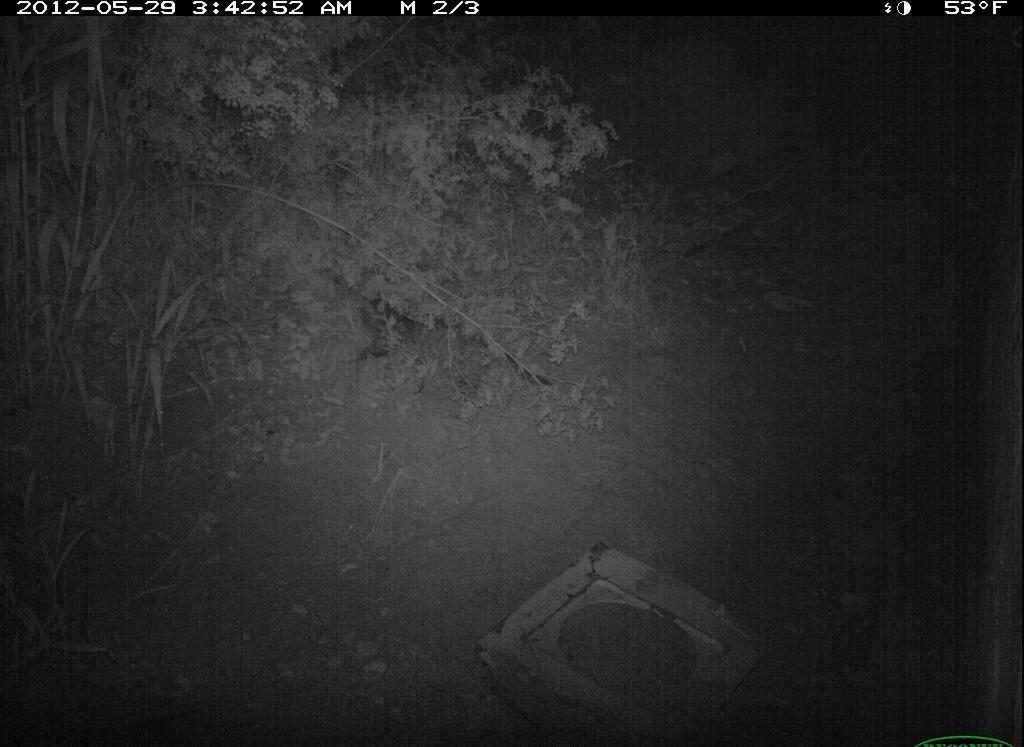cat: (348, 285, 553, 409)
